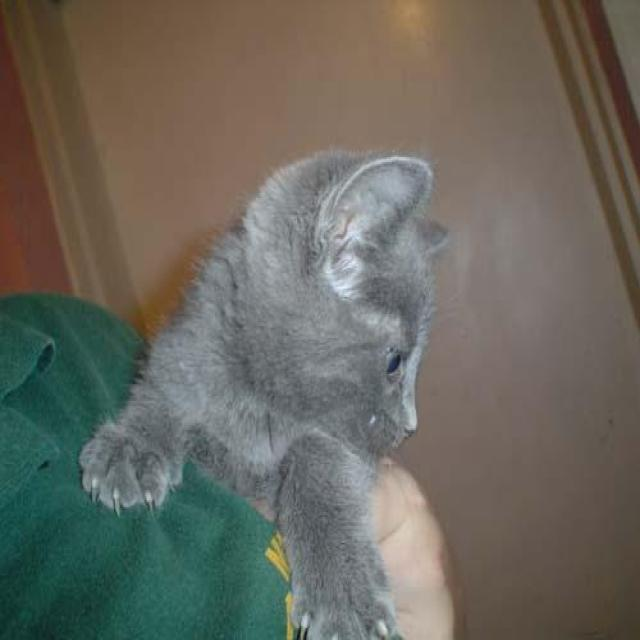Cats: (77, 147, 449, 638)
